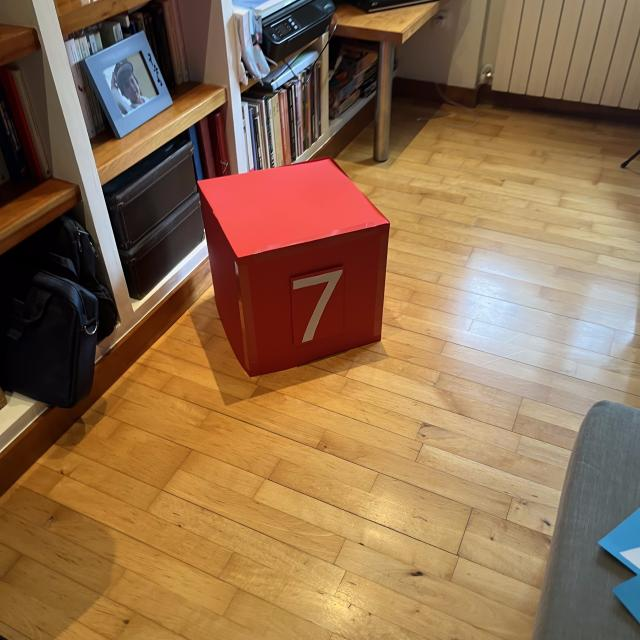box: (193, 154, 392, 378)
